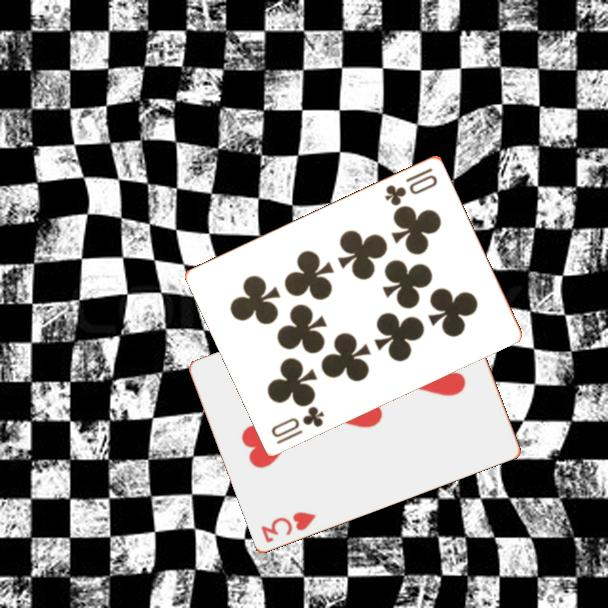c10: (268, 402, 327, 447), (381, 164, 441, 208)
h03: (257, 508, 320, 546)
